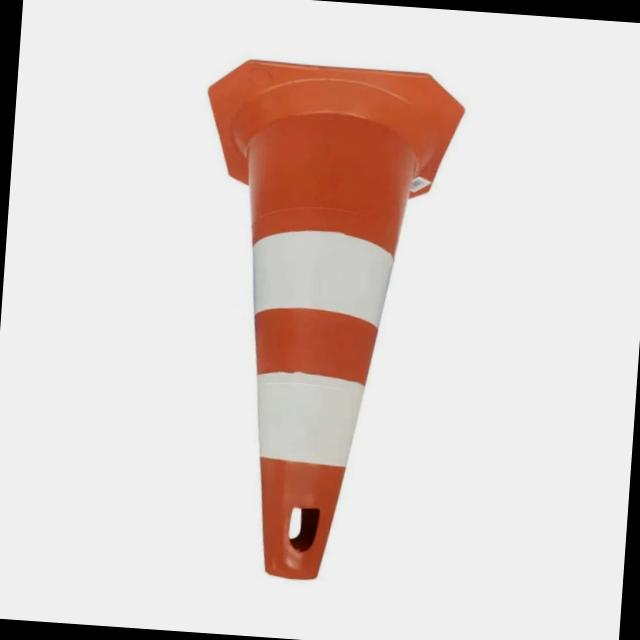cone: (170, 59, 468, 590)
